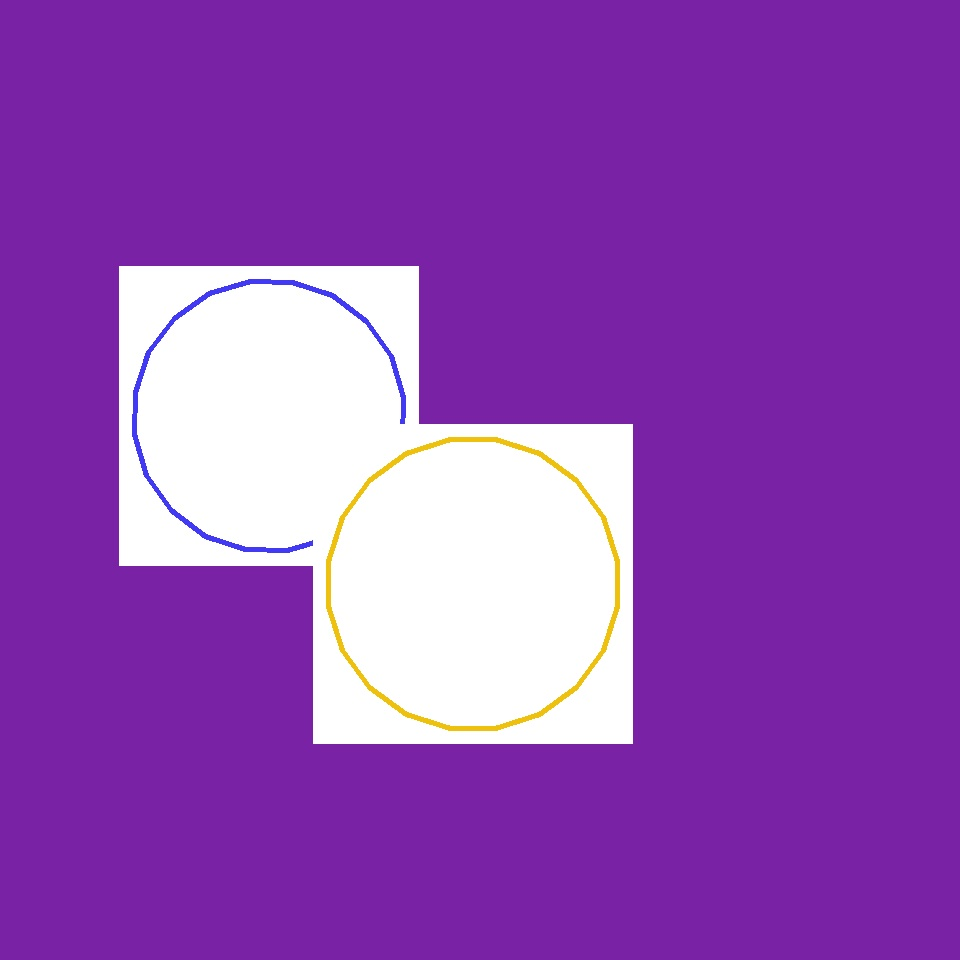circle: (438, 366, 696, 620), (416, 199, 580, 351)
square: (484, 478, 622, 616), (646, 724, 783, 860)
triangle: (329, 439, 618, 728), (134, 282, 404, 550), (509, 84, 748, 324)
